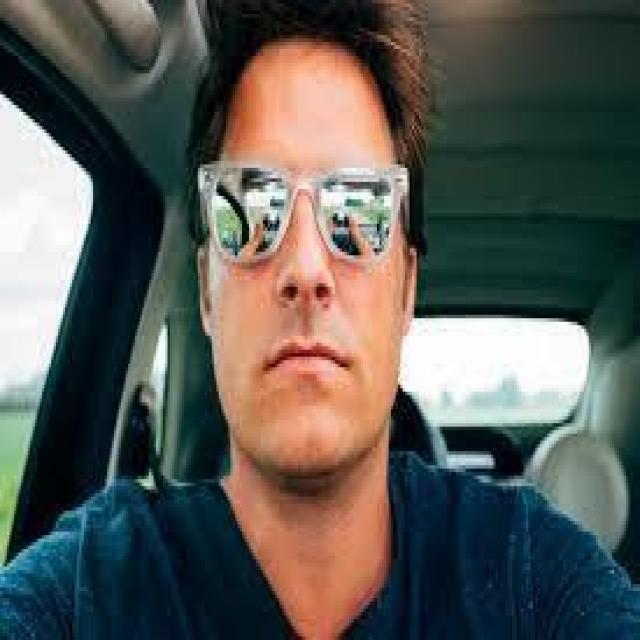person: (5, 4, 628, 636)
